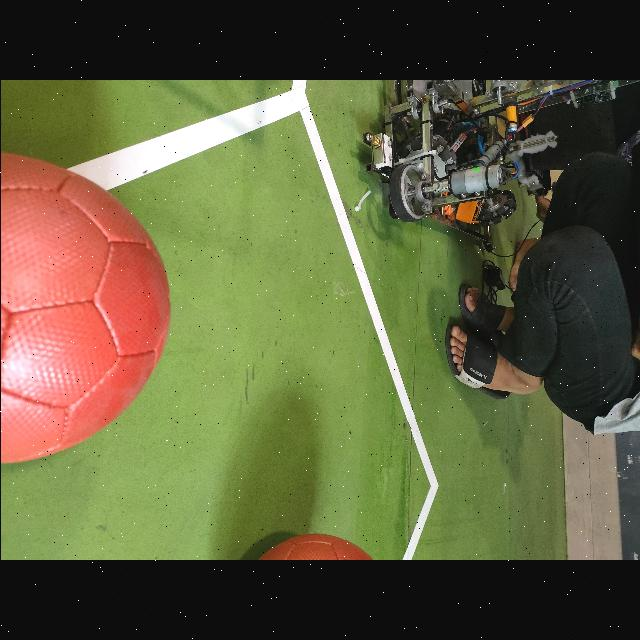R: (1, 151, 170, 463), (248, 534, 376, 560)
